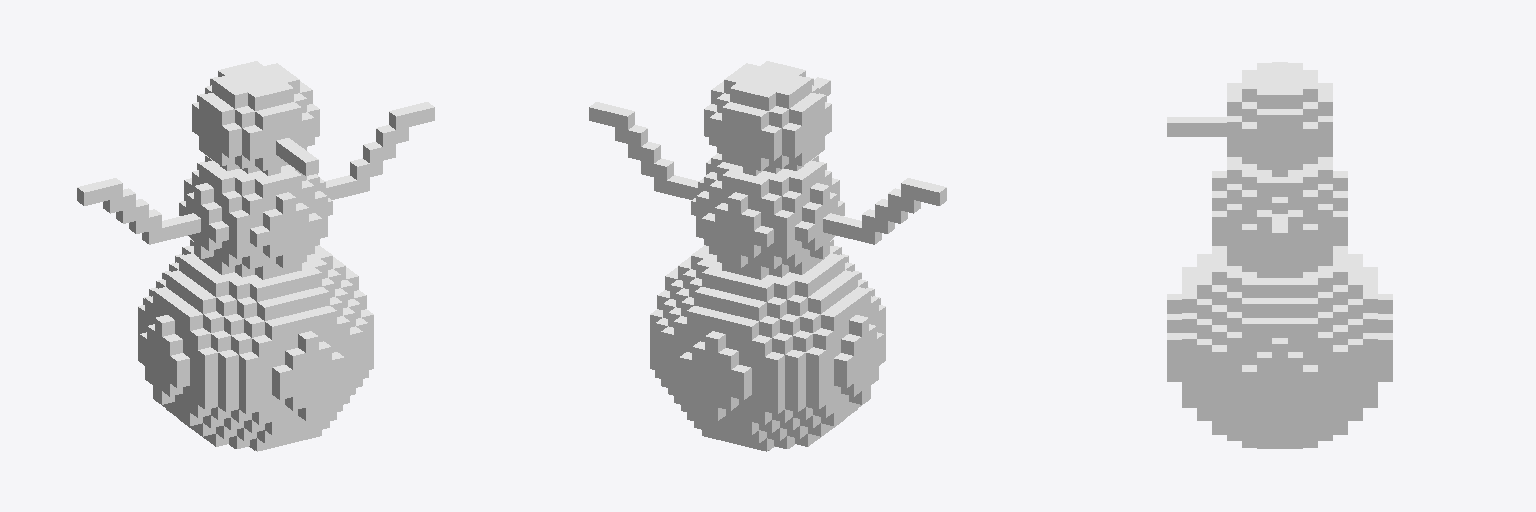
The model's file is Bonhomme_de_neige.obj.
3 renders of one model, left to right at view 1: azimuth 30°, elevation 25°; view 2: azimuth 150°, elevation 25°; view 3: azimuth 270°, elevation 25°, orthographic.
Visible parts, largest first — view 1: Bonhomme_de_neige; view 2: Bonhomme_de_neige; view 3: Bonhomme_de_neige.
Part boxes in pixels (left/top/right/bottom): Bonhomme_de_neige: left=77, top=61, right=434, bottom=451; Bonhomme_de_neige: left=589, top=61, right=946, bottom=451; Bonhomme_de_neige: left=1167, top=62, right=1392, bottom=448.
Bounding box in the file's own units: 27 × 26 × 15.